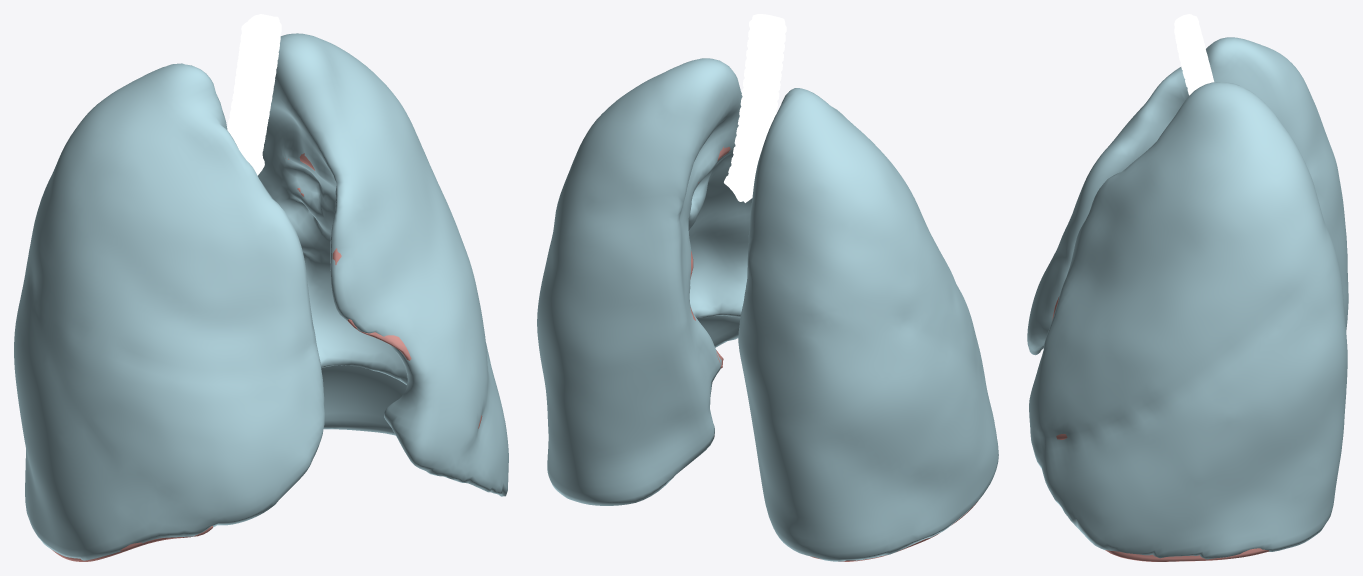
Rendered from respiratory-system.glb.
3 views of the same model, side by side, from view 1: azimuth 30°, elevation 25°; view 2: azimuth 150°, elevation 25°; view 3: azimuth 270°, elevation 25° (orthographic). The views are drawn at different scales.
Parts seen in each view (by area): view 1: Pleura, Trachea, Superior lobe of left lung; view 2: Pleura, Trachea; view 3: Pleura, Trachea, Inferior lobe of left lung.
Boxes of the visible parts, box(x1,y1,x2,y2) form: Pleura: box(14, 33, 508, 560); Trachea: box(227, 14, 281, 175); Superior lobe of left lung: box(285, 153, 482, 428); Pleura: box(537, 58, 998, 561); Trachea: box(724, 14, 786, 202); Pleura: box(1027, 37, 1348, 559); Trachea: box(1174, 14, 1214, 95); Inferior lobe of left lung: box(1105, 548, 1269, 561).
Bounding box in the file's own units: 0.2634 × 0.2936 × 0.1882.
